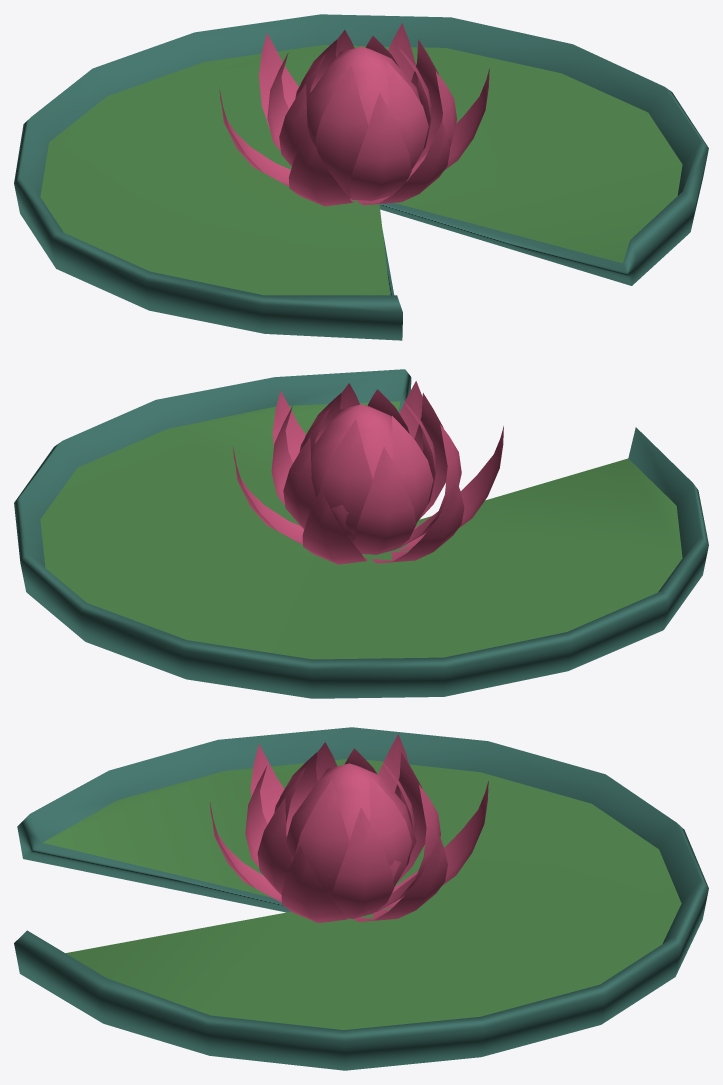
Rendered from Lilypad.fbx.
3 views of the same model, one above another, from view 1: azimuth 30°, elevation 25°; view 2: azimuth 150°, elevation 25°; view 3: azimuth 270°, elevation 25° (orthographic). The views are drawn at different scales.
Parts seen in each view (by area): view 1: Lilypad_Pad, Lilypad_Flower_Petals; view 2: Lilypad_Pad, Lilypad_Flower_Petals; view 3: Lilypad_Pad, Lilypad_Flower_Petals.
Part boxes in pixels (bbox=[...]): Lilypad_Pad: bbox=[14, 14, 708, 340]; Lilypad_Flower_Petals: bbox=[219, 23, 489, 206]; Lilypad_Pad: bbox=[14, 369, 708, 698]; Lilypad_Flower_Petals: bbox=[233, 381, 503, 564]; Lilypad_Pad: bbox=[14, 727, 708, 1070]; Lilypad_Flower_Petals: bbox=[210, 734, 488, 923].
Size of the model in its own units: 133 by 30.79 by 125.
